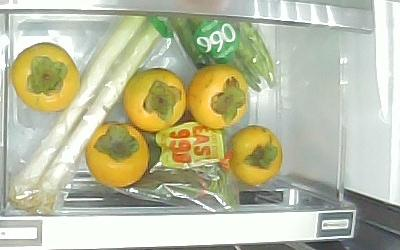persimmon: (12, 43, 80, 112), (123, 68, 188, 133), (86, 123, 151, 188), (187, 65, 248, 130), (229, 126, 283, 186)
